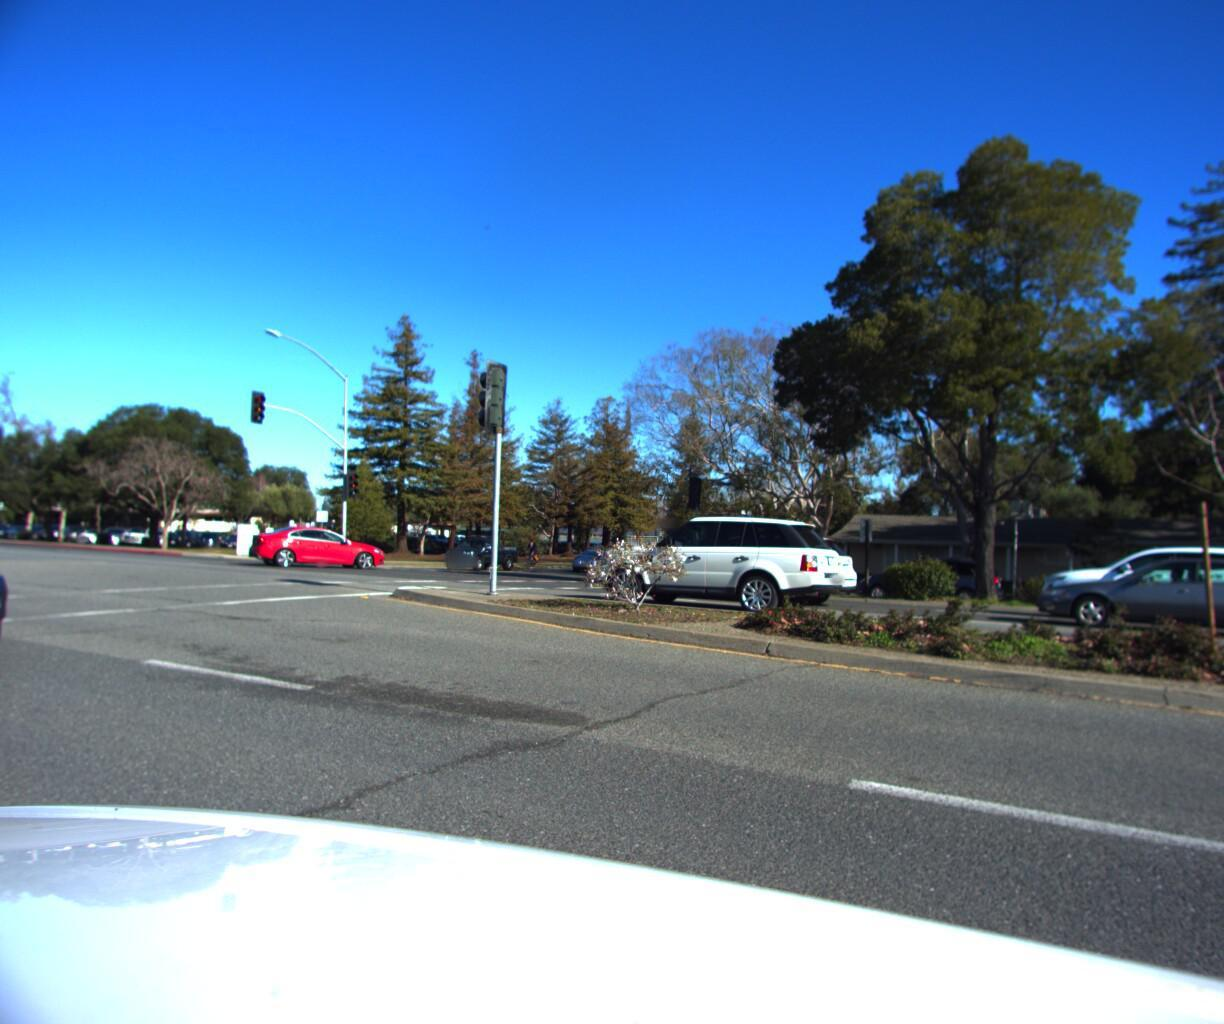bicycle: (512, 540, 544, 569)
car: (587, 514, 855, 611), (642, 526, 866, 613), (1032, 548, 1224, 641), (1036, 536, 1224, 628), (0, 464, 55, 712), (848, 550, 1003, 611), (242, 524, 391, 568), (439, 533, 521, 573), (569, 545, 628, 576)
